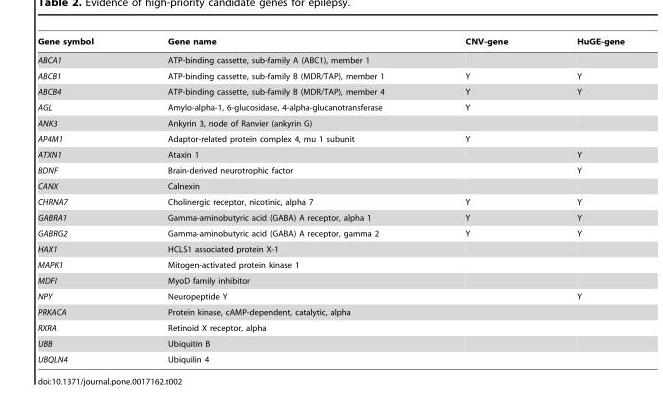table: (37, 36, 624, 363)
table column: (130, 36, 424, 363), (424, 36, 541, 363), (37, 36, 130, 363), (541, 36, 624, 363)
table column header: (37, 36, 624, 50)
table row: (37, 50, 624, 68), (37, 83, 624, 99), (37, 99, 624, 115), (37, 130, 624, 146), (37, 146, 624, 162), (37, 162, 624, 178), (37, 193, 624, 209), (37, 209, 624, 225), (37, 225, 624, 241), (37, 256, 624, 272), (37, 272, 624, 288), (37, 288, 624, 304), (37, 319, 624, 335), (37, 335, 624, 351), (37, 68, 624, 83), (37, 115, 624, 130), (37, 178, 624, 193), (37, 241, 624, 256), (37, 304, 624, 319), (37, 36, 624, 50), (37, 351, 624, 363)
table spanning cell: (130, 304, 624, 319), (130, 115, 541, 130)
